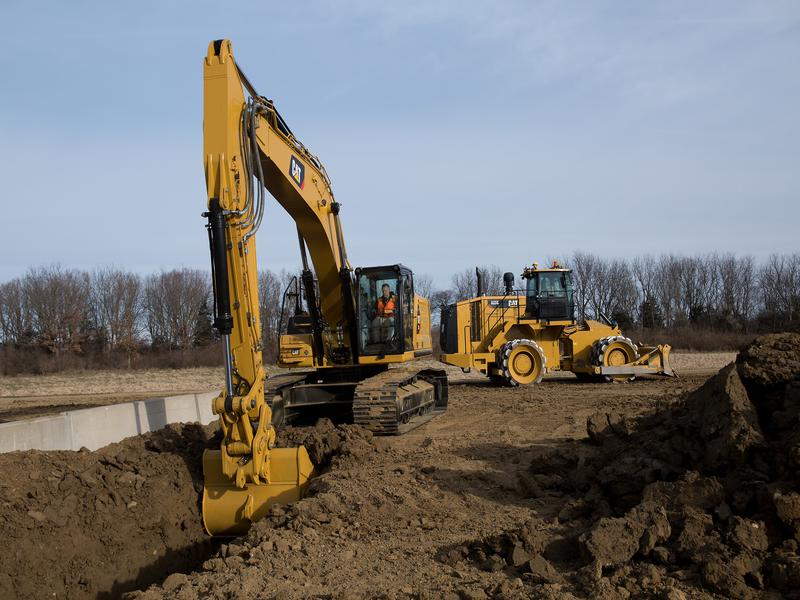shovel: (181, 31, 454, 547)
